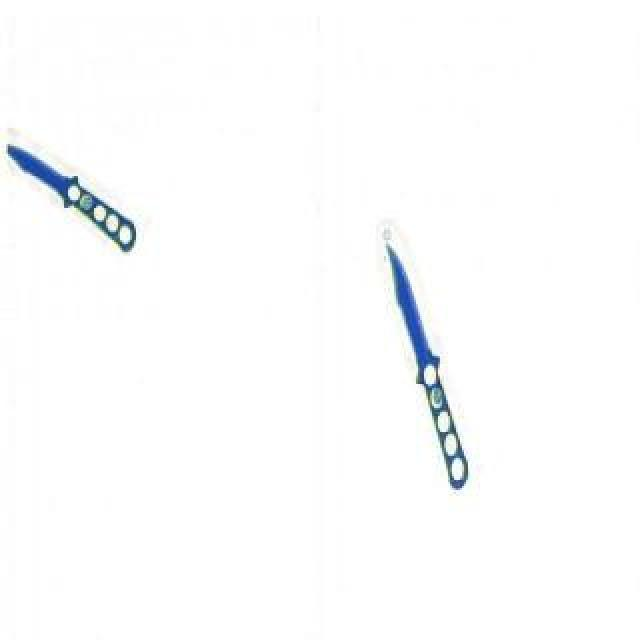knife: (374, 240, 478, 488), (0, 136, 146, 252)
